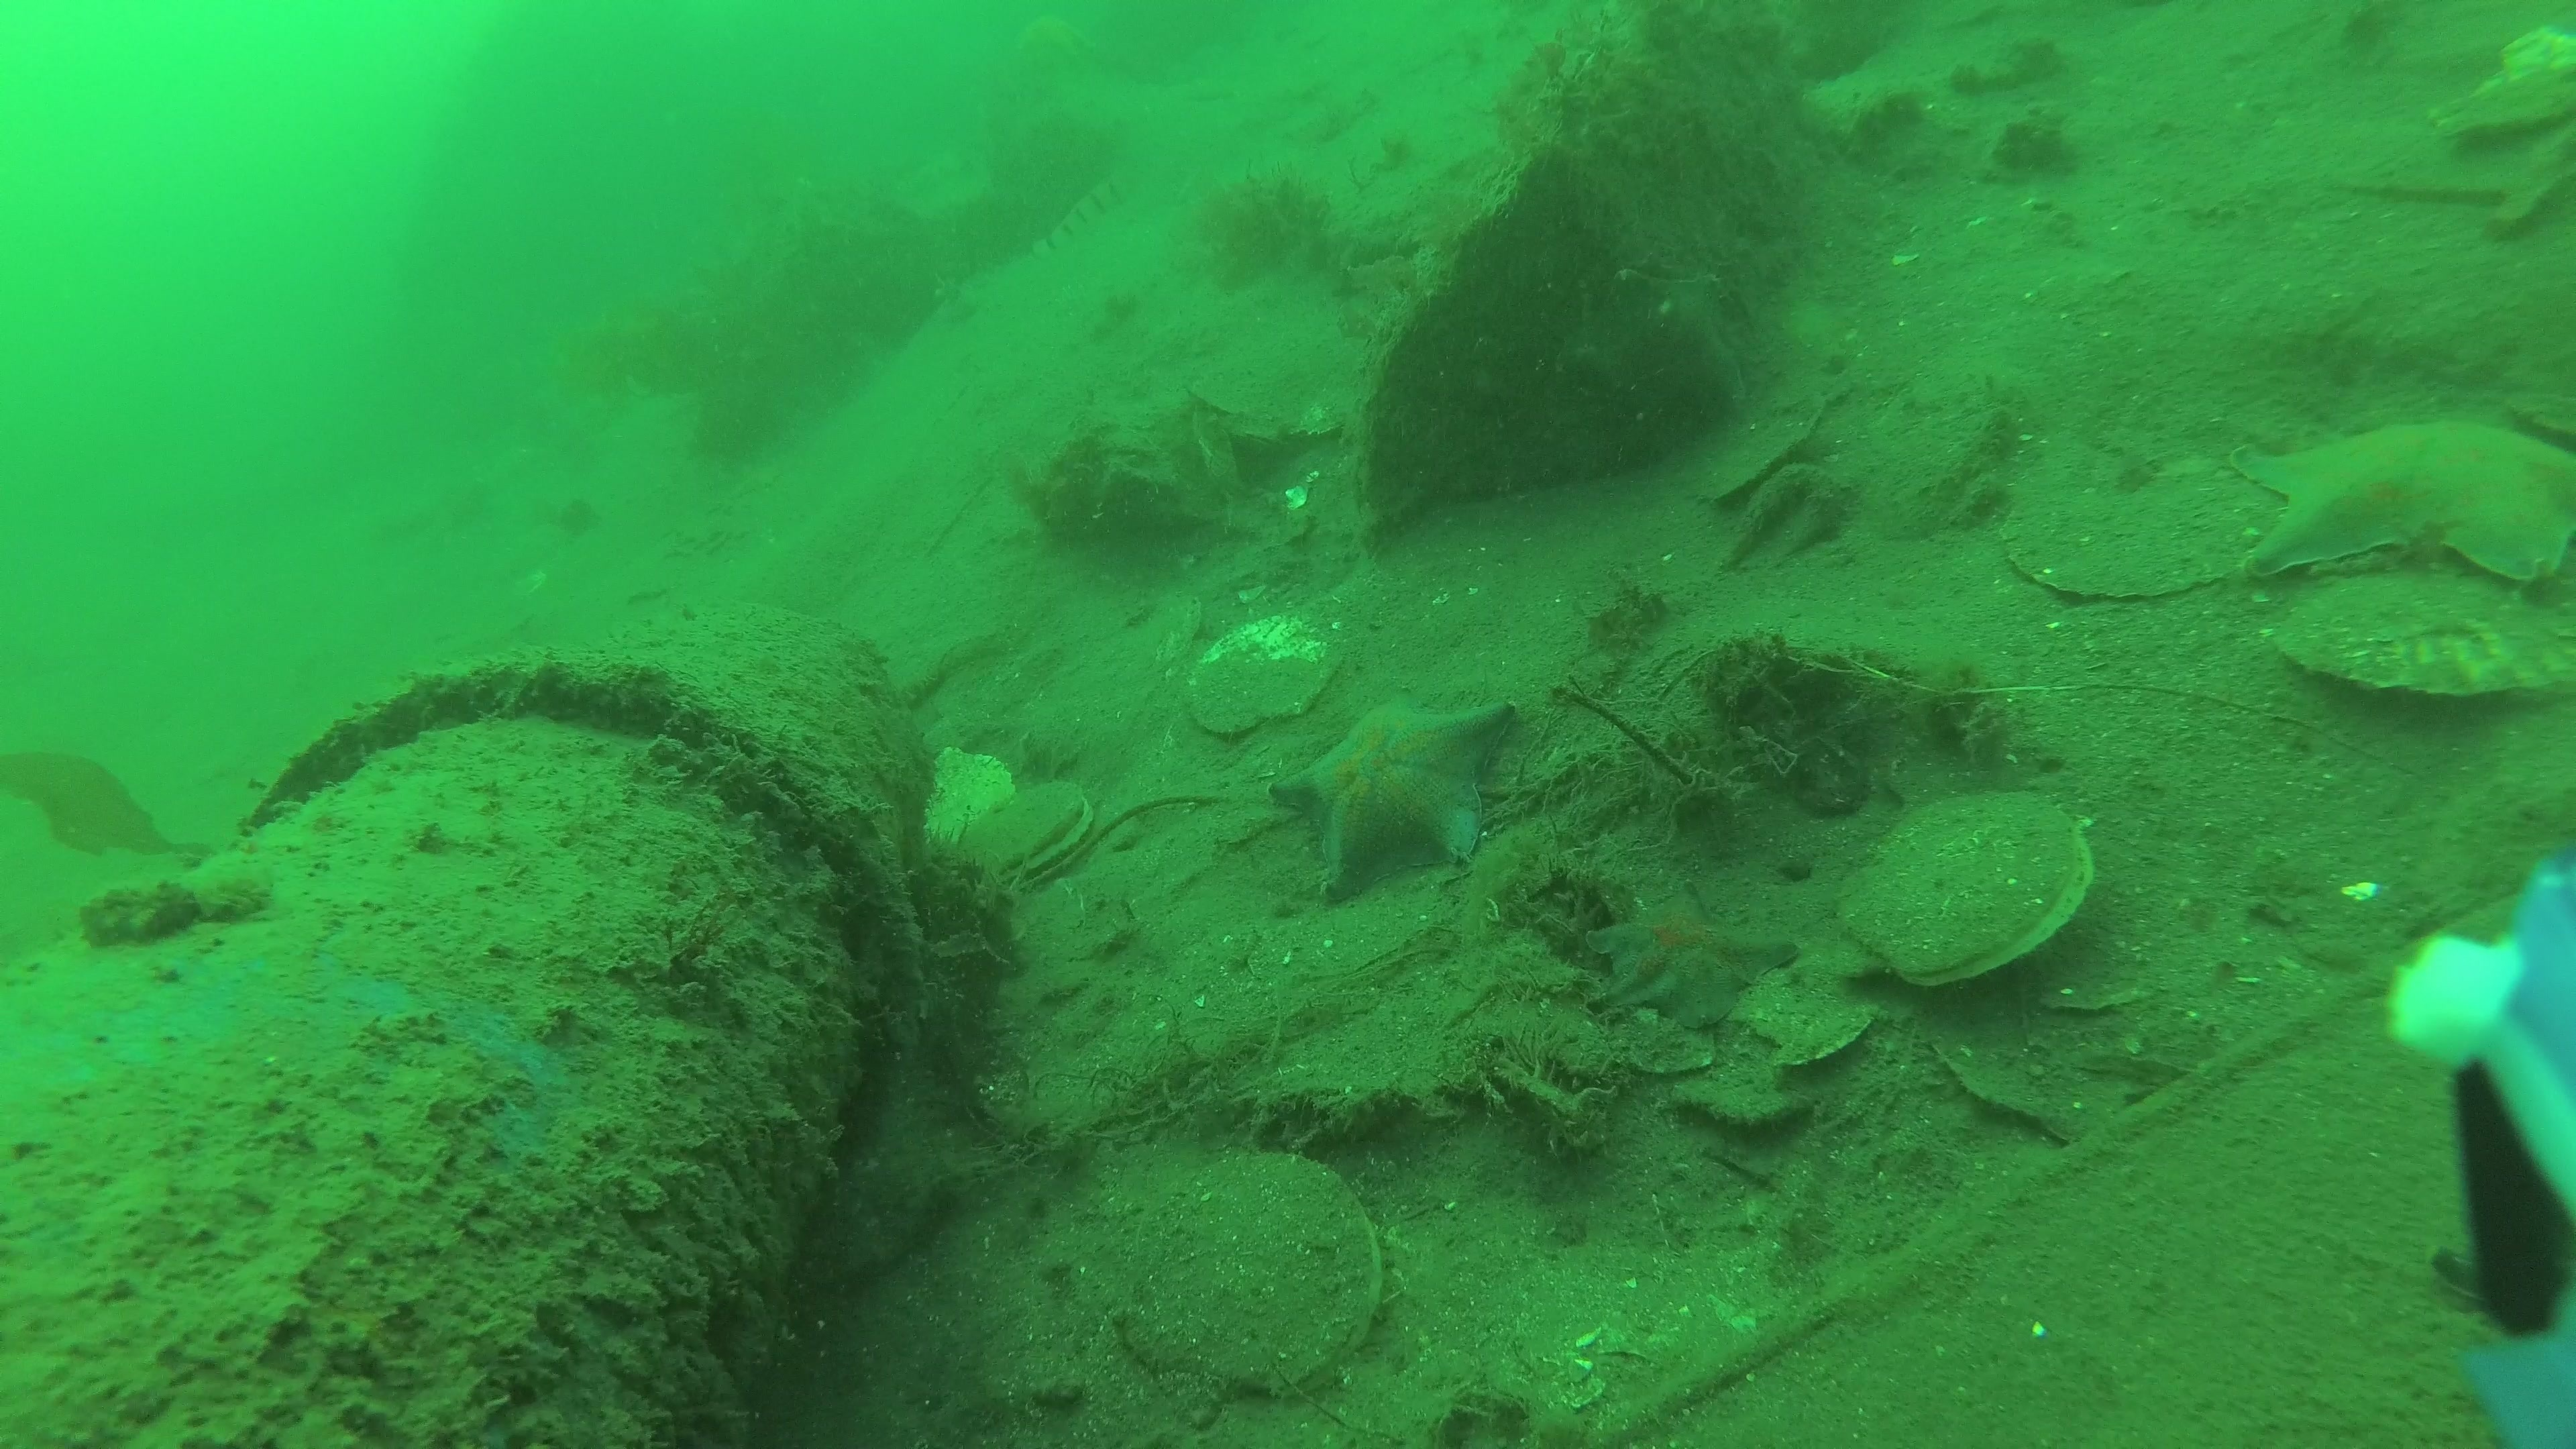scallop: (1132, 1155, 1378, 1403), (1840, 800, 2091, 991), (2281, 568, 2576, 697), (1185, 621, 1338, 738), (945, 782, 1097, 897)
starfish: (2236, 416, 2576, 586), (1276, 695, 1516, 897), (1585, 897, 1799, 1035)
